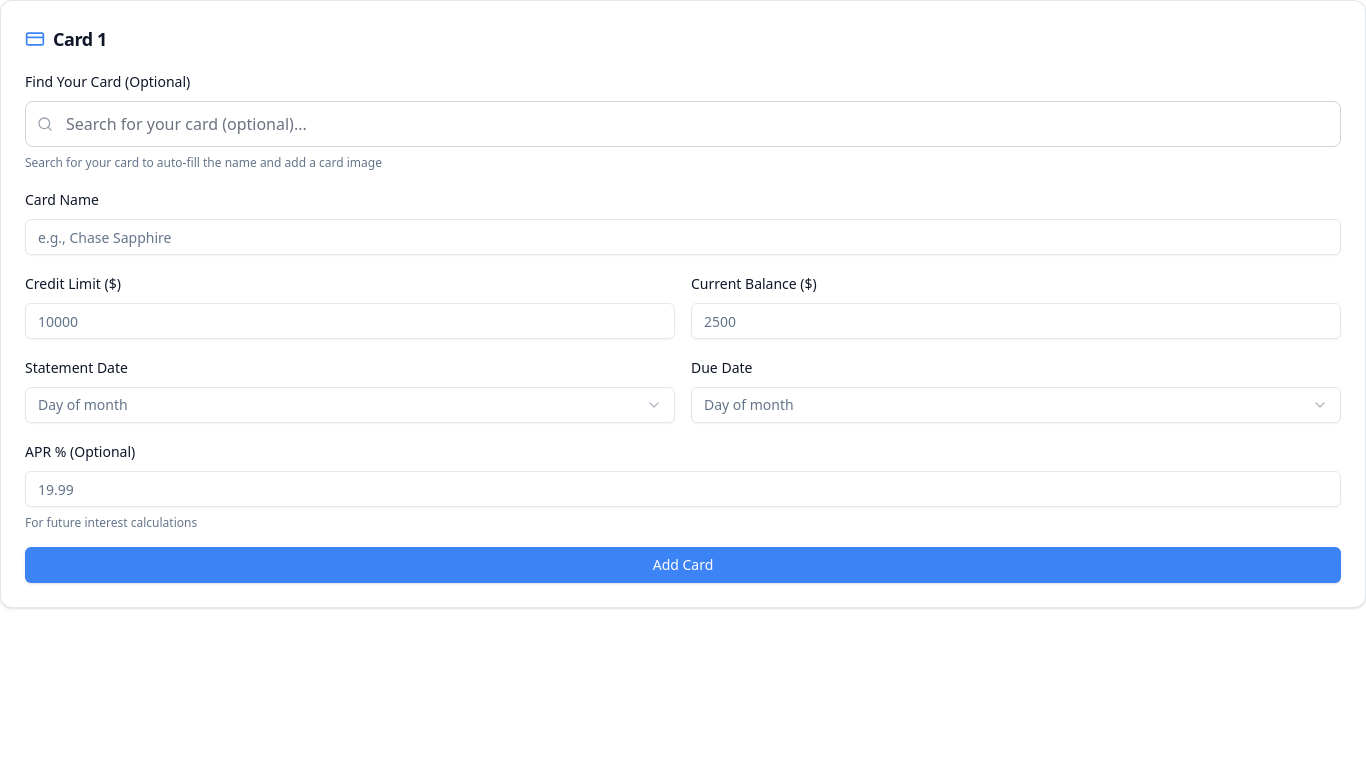
Test case: CreditCardForm › Form Validation › should clear error when field is corrected
Submit with empty form to trigger errors
Click the button "Add Card" at [683, 565], box [25, 547, 1341, 583]
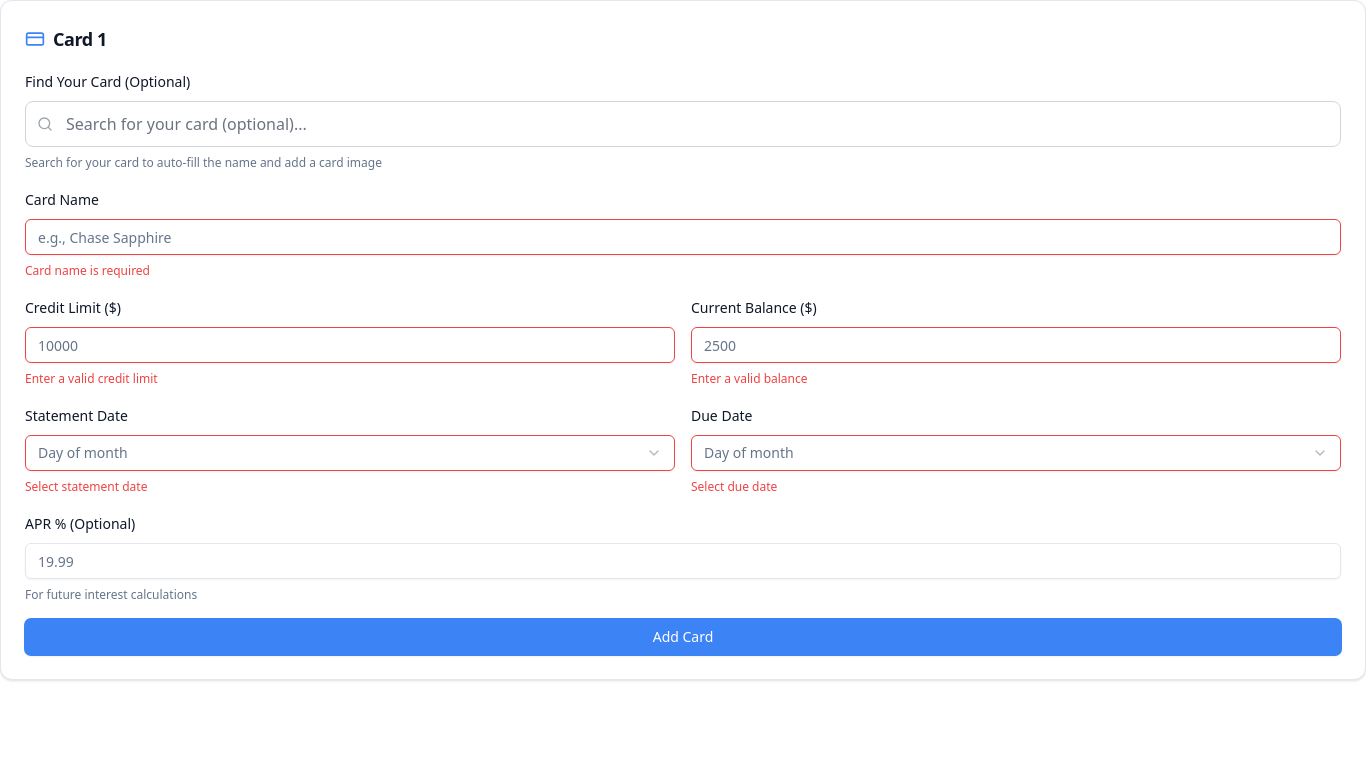
Check: the text "Card name is required" is shown, box [25, 262, 150, 279]
Fill in the nickname
Type "Test Card" into the field labelled "Card Name" at [683, 237], box [25, 219, 1341, 255]
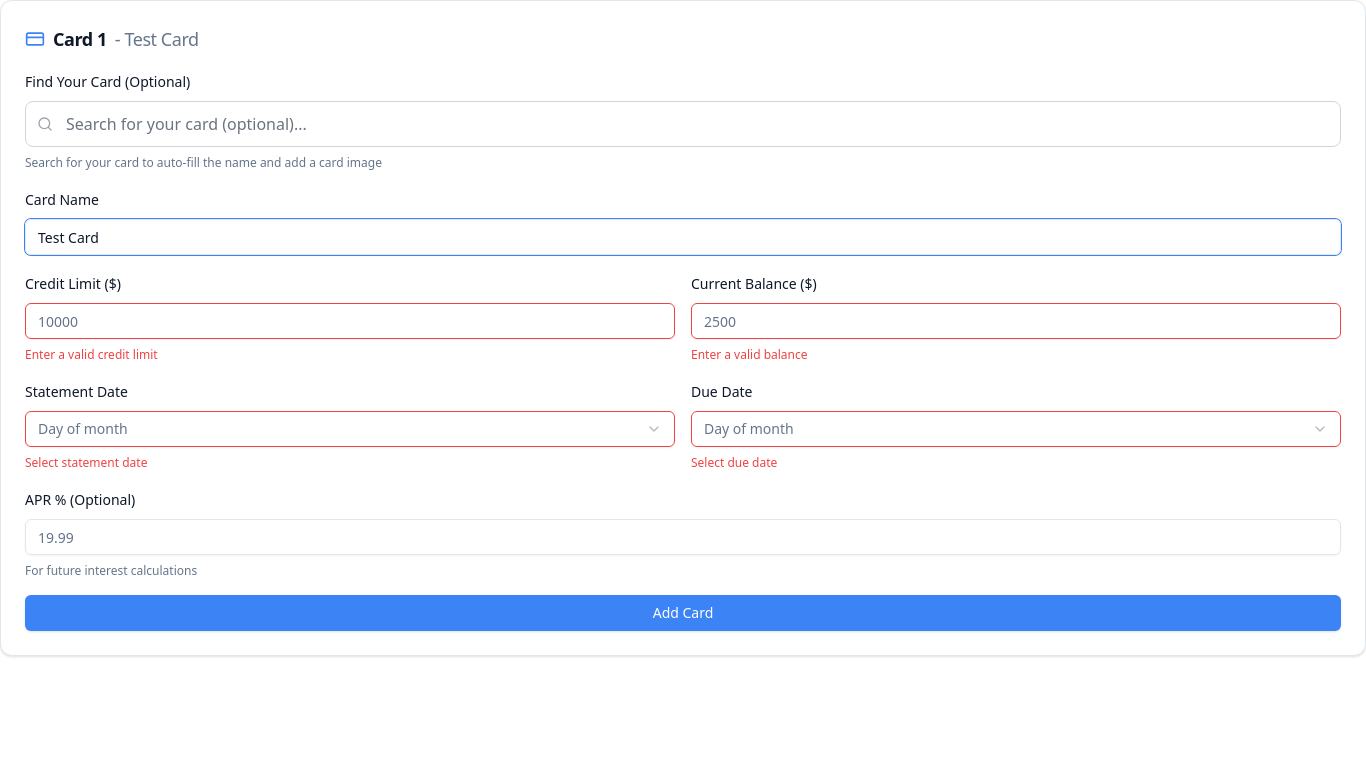
Check: the text "Card name is required" is gone
